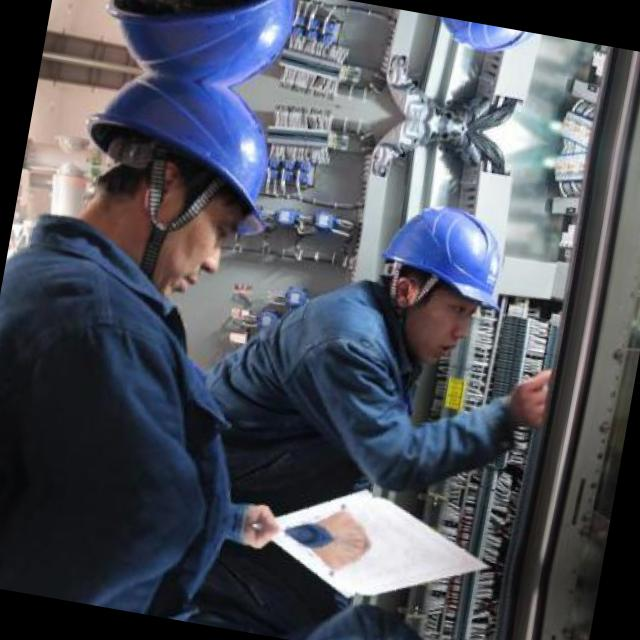helmet: (50, 61, 306, 294), (355, 172, 526, 379), (82, 0, 325, 102), (406, 12, 556, 87)
